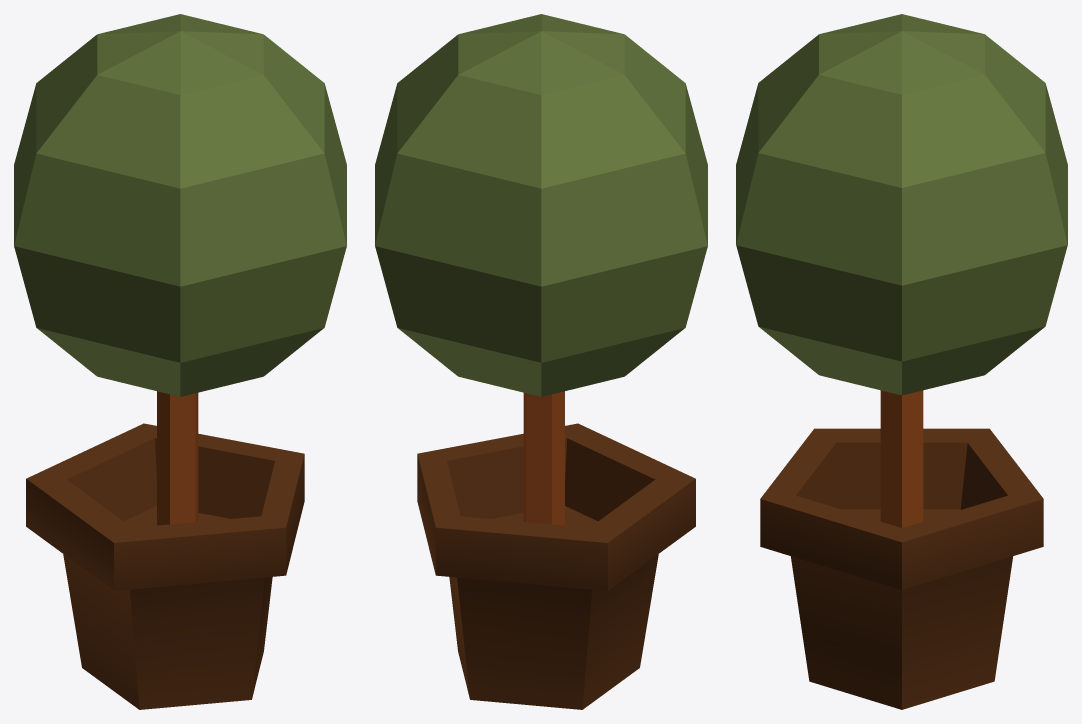
The model's file is g_o_Plant1.fbx.
3 renders of one model, left to right at view 1: azimuth 30°, elevation 25°; view 2: azimuth 150°, elevation 25°; view 3: azimuth 270°, elevation 25°, orthographic.
Visible parts, largest first — view 1: Flowerpot2; view 2: Flowerpot2; view 3: Flowerpot2.
Part boxes in pixels (bbox=[...]): Flowerpot2: bbox=[14, 14, 346, 709]; Flowerpot2: bbox=[375, 14, 707, 709]; Flowerpot2: bbox=[736, 14, 1067, 709].
Bounding box in the file's own units: 0.935 × 1.72 × 0.8098.
1 material, 1 textured.
